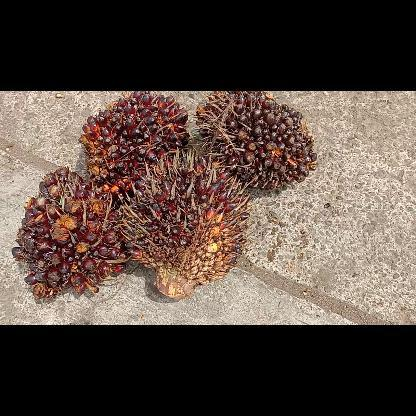Kurang masak: (119, 145, 253, 305), (10, 167, 132, 303), (193, 91, 321, 193), (76, 90, 190, 196)
